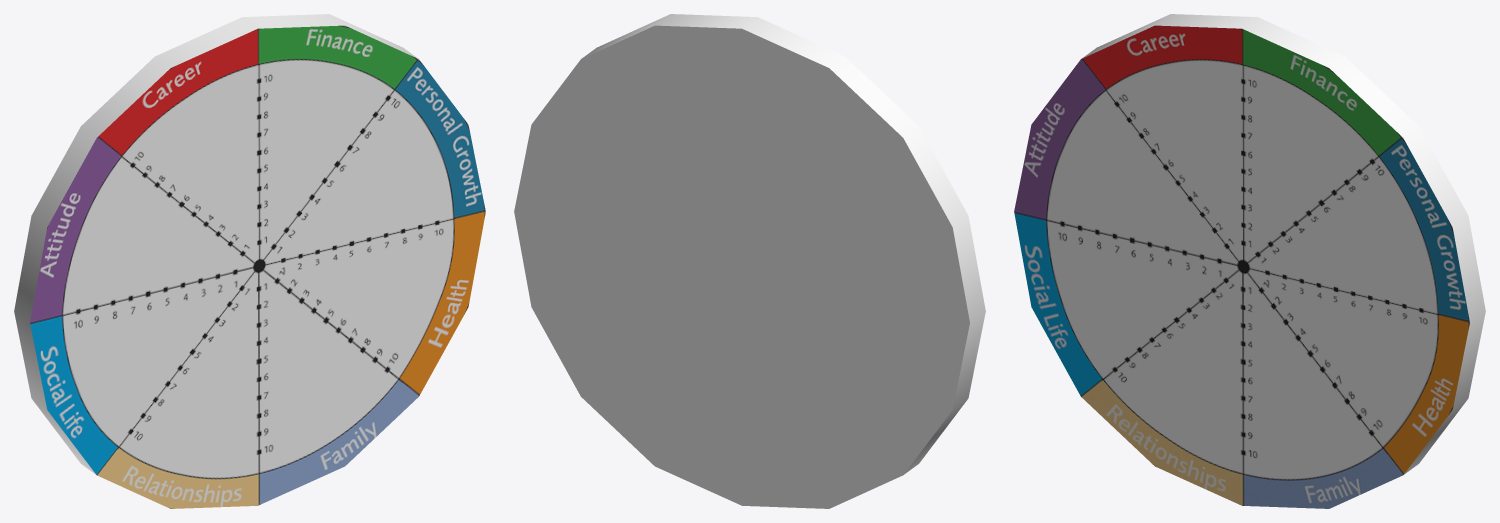
File: wheel.fbx
3 views of the same model, side by side, from view 1: azimuth 30°, elevation 25°; view 2: azimuth 150°, elevation 25°; view 3: azimuth 330°, elevation 25° (orthographic).
Visible parts, largest first — view 1: Wheel; view 2: Wheel; view 3: Wheel.
Part boxes in pixels (<box>): Wheel: <box>14,14,485,508</box>; Wheel: <box>514,14,985,508</box>; Wheel: <box>1014,14,1485,508</box>.
Size of the model in its own units: 2 by 2 by 0.1203.
